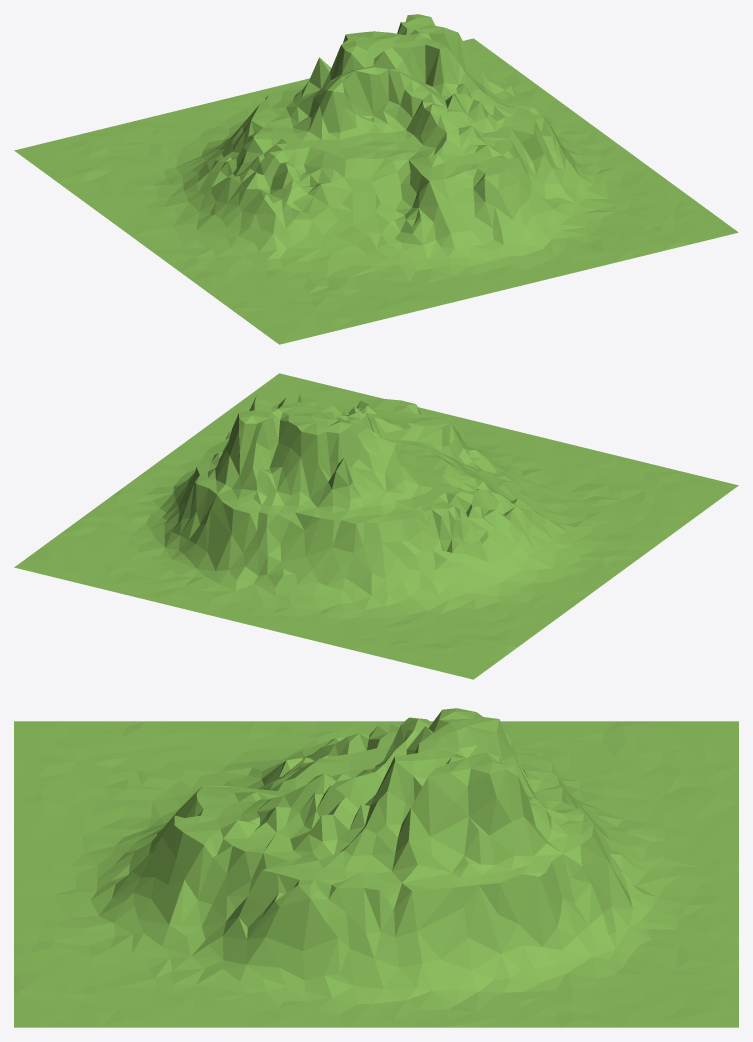
File: MT_Terrain_L_c_24.fbx
3 renders of one model, top to bottom at view 1: azimuth 30°, elevation 25°; view 2: azimuth 150°, elevation 25°; view 3: azimuth 270°, elevation 25°, orthographic. The views are drawn at different scales.
Visible parts, largest first — view 1: MT_Terrain_L_c_24; view 2: MT_Terrain_L_c_24; view 3: MT_Terrain_L_c_24.
Part boxes in pixels (left/top/right/bottom): MT_Terrain_L_c_24: left=14, top=14, right=738, bottom=344; MT_Terrain_L_c_24: left=14, top=373, right=738, bottom=679; MT_Terrain_L_c_24: left=14, top=708, right=738, bottom=1027.
Size of the model in its own units: 10000 by 2568 by 10000.
